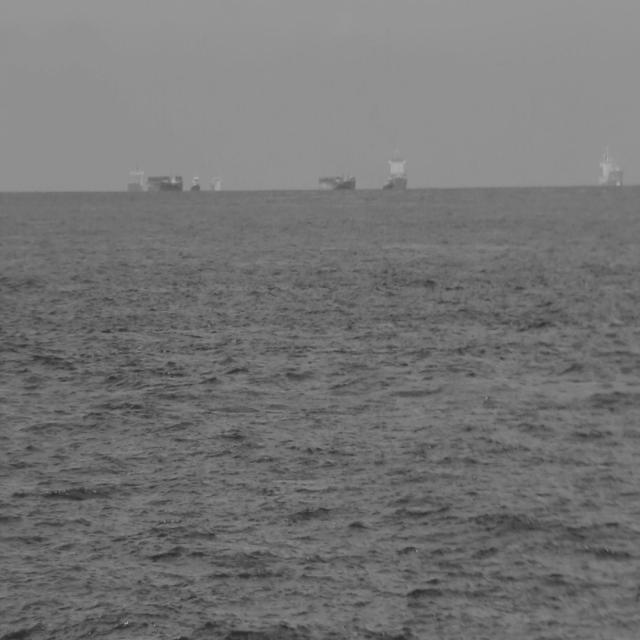ship: (126, 163, 184, 194), (380, 144, 410, 192), (596, 144, 624, 189), (317, 170, 357, 192), (189, 174, 202, 194)
